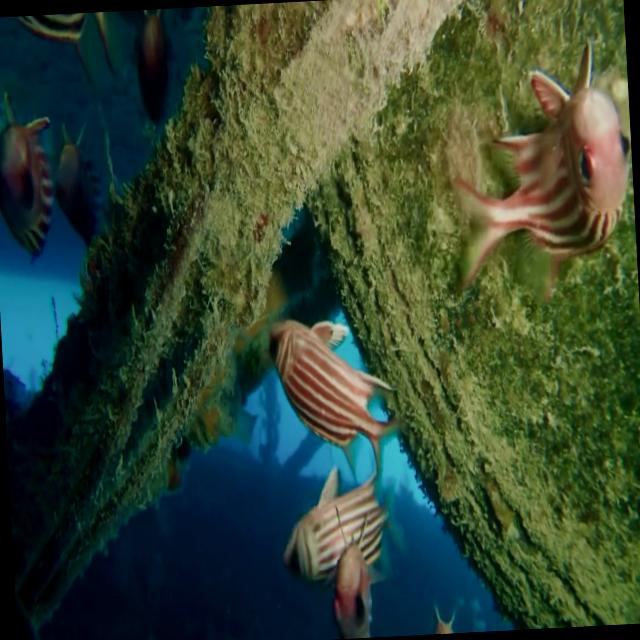Asker Baligi: (442, 36, 637, 296), (264, 309, 406, 492)
